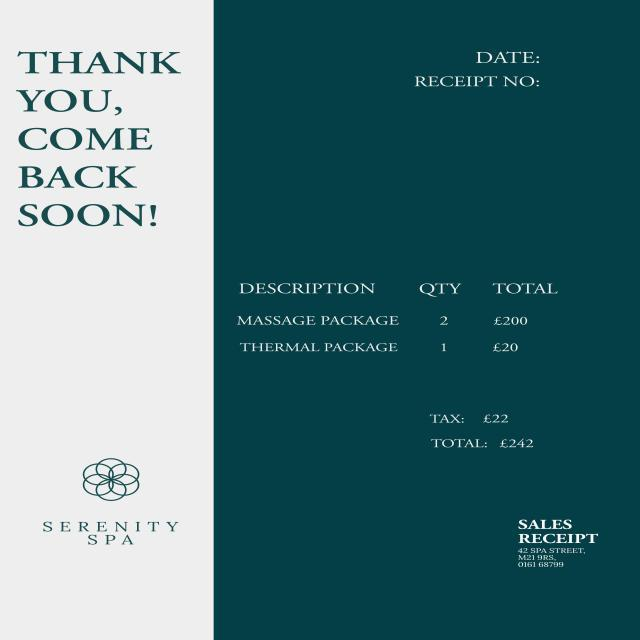ROI: (7, 35, 186, 247), (229, 269, 567, 363), (408, 41, 558, 94), (427, 407, 544, 461), (34, 513, 187, 554), (509, 514, 605, 575)
